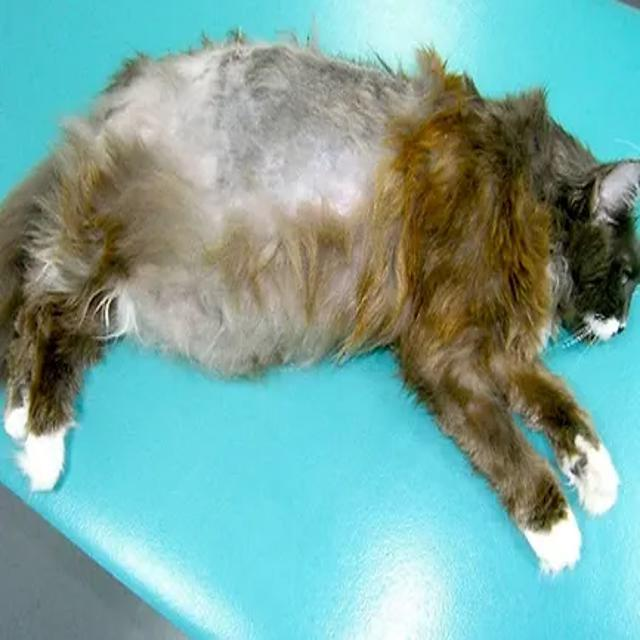hairloss: (110, 57, 396, 191), (138, 261, 338, 352)
